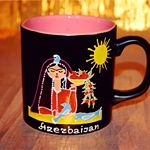cups: (18, 14, 150, 137)
